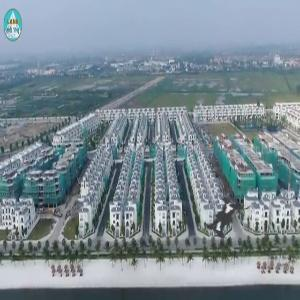drone: (173, 170, 273, 270)
